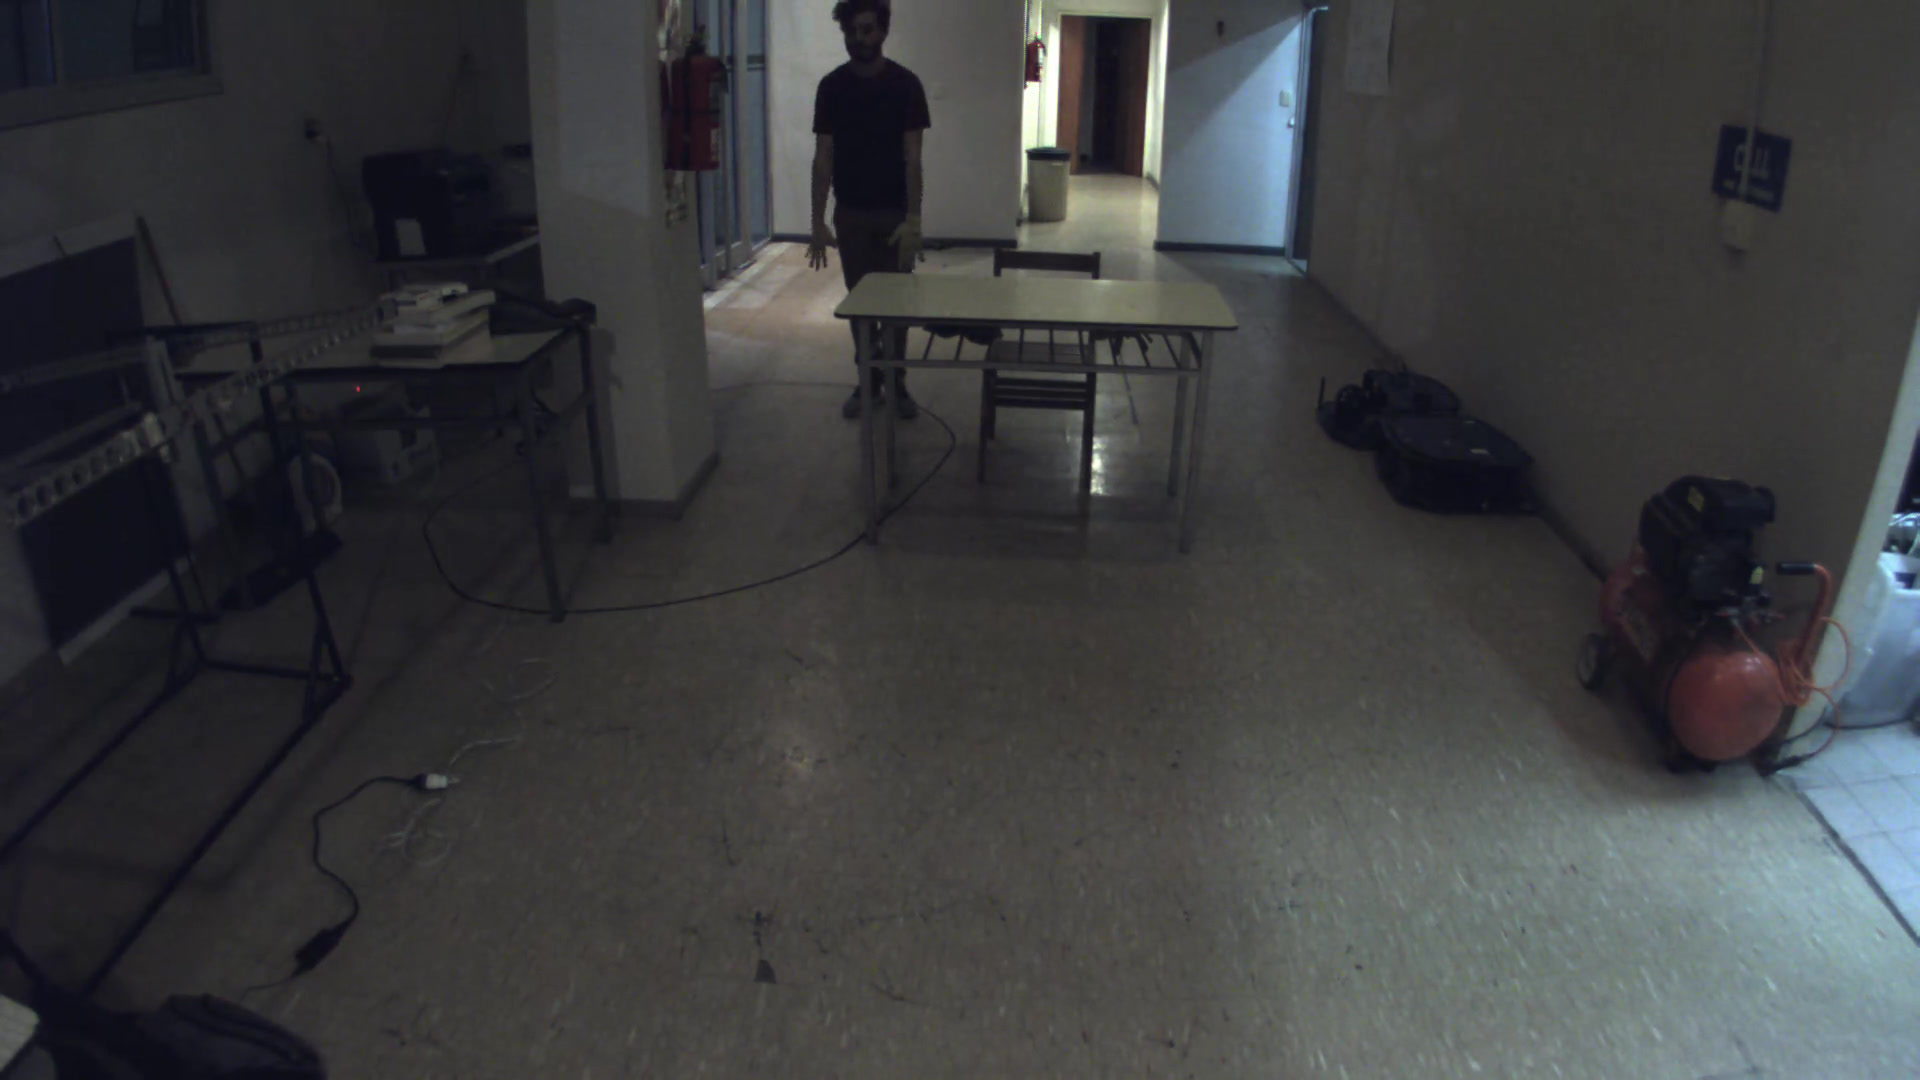hand: (795, 220, 849, 280), (889, 206, 934, 272)
